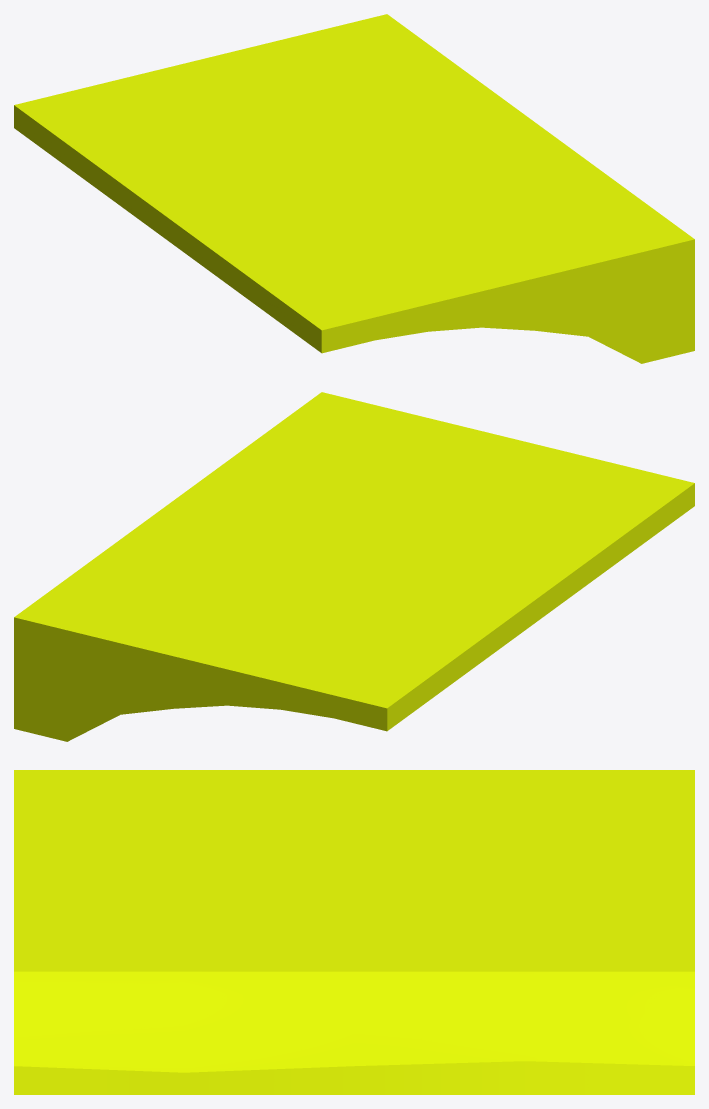
File: Roof.FBX
3 views of the same model, one above another, from view 1: azimuth 30°, elevation 25°; view 2: azimuth 150°, elevation 25°; view 3: azimuth 270°, elevation 25° (orthographic). The views are drawn at different scales.
Parts seen in each view (by area): view 1: Roof; view 2: Roof; view 3: Roof.
Boxes of the visible parts, x1,y1,x2,y2 form: Roof: (14, 14, 694, 363); Roof: (14, 392, 694, 741); Roof: (14, 770, 694, 1094).
Size of the model in its own units: 350 by 105 by 500.
